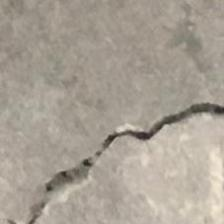Crack: (15, 89, 224, 221)
